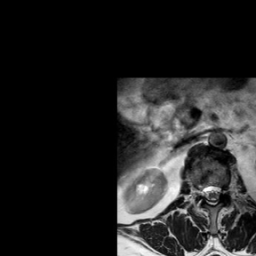CCS_normal: (208, 176, 214, 211)
LFS_stenosis: (220, 179, 227, 200)
LLS_normal: (214, 176, 220, 206)
RFS_normal: (195, 179, 202, 202)
RLS_normal: (202, 179, 208, 204)
